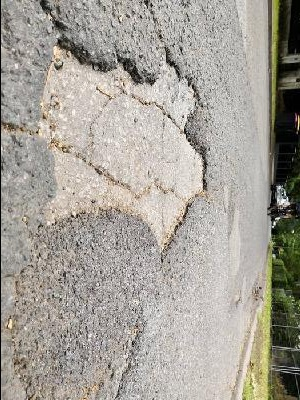pothole: (38, 31, 211, 259)
